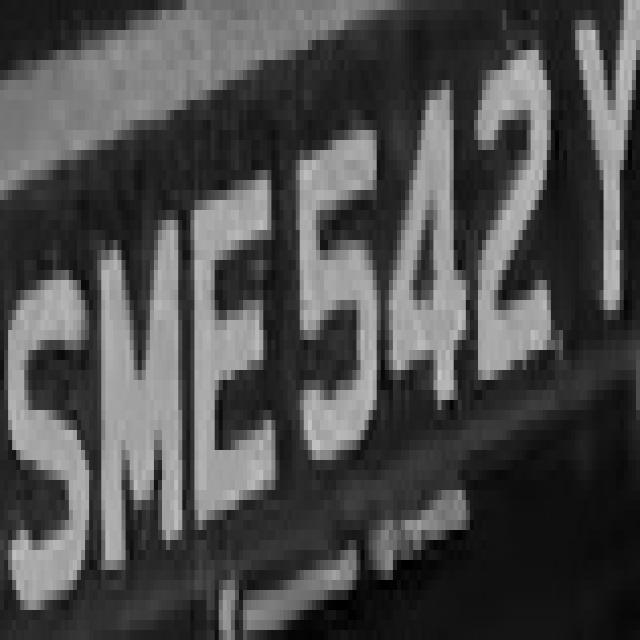2: (454, 40, 563, 400)
4: (377, 60, 474, 450)
5: (279, 120, 393, 490)
E: (190, 150, 280, 550)
M: (77, 210, 194, 590)
S: (4, 240, 93, 640)
Y: (4, 0, 4, 6)
